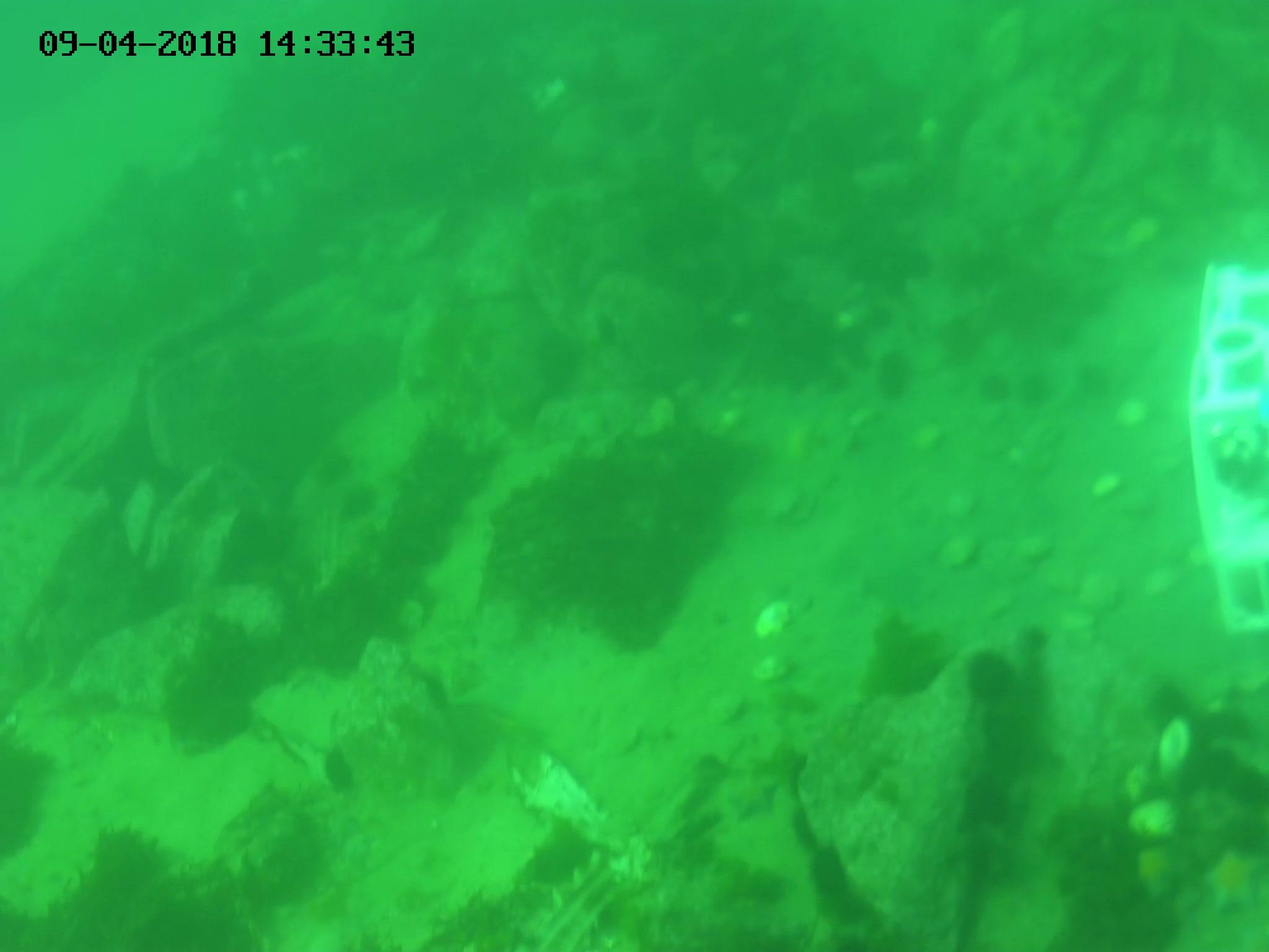holothurian: (1202, 854, 1269, 921), (1137, 843, 1183, 898)
scallop: (120, 478, 154, 557), (1133, 801, 1183, 841), (1158, 723, 1190, 782), (750, 601, 793, 639), (943, 535, 983, 570), (598, 726, 643, 757), (1084, 576, 1119, 614), (709, 693, 749, 725), (752, 653, 799, 679), (1110, 490, 1152, 518), (1061, 612, 1102, 640), (908, 425, 947, 454), (1018, 536, 1055, 561), (1118, 400, 1151, 428), (785, 498, 816, 527), (1091, 472, 1125, 498)
starfish: (966, 653, 1016, 705), (809, 849, 851, 892), (964, 777, 1006, 814), (876, 356, 911, 399), (983, 371, 1006, 403)
